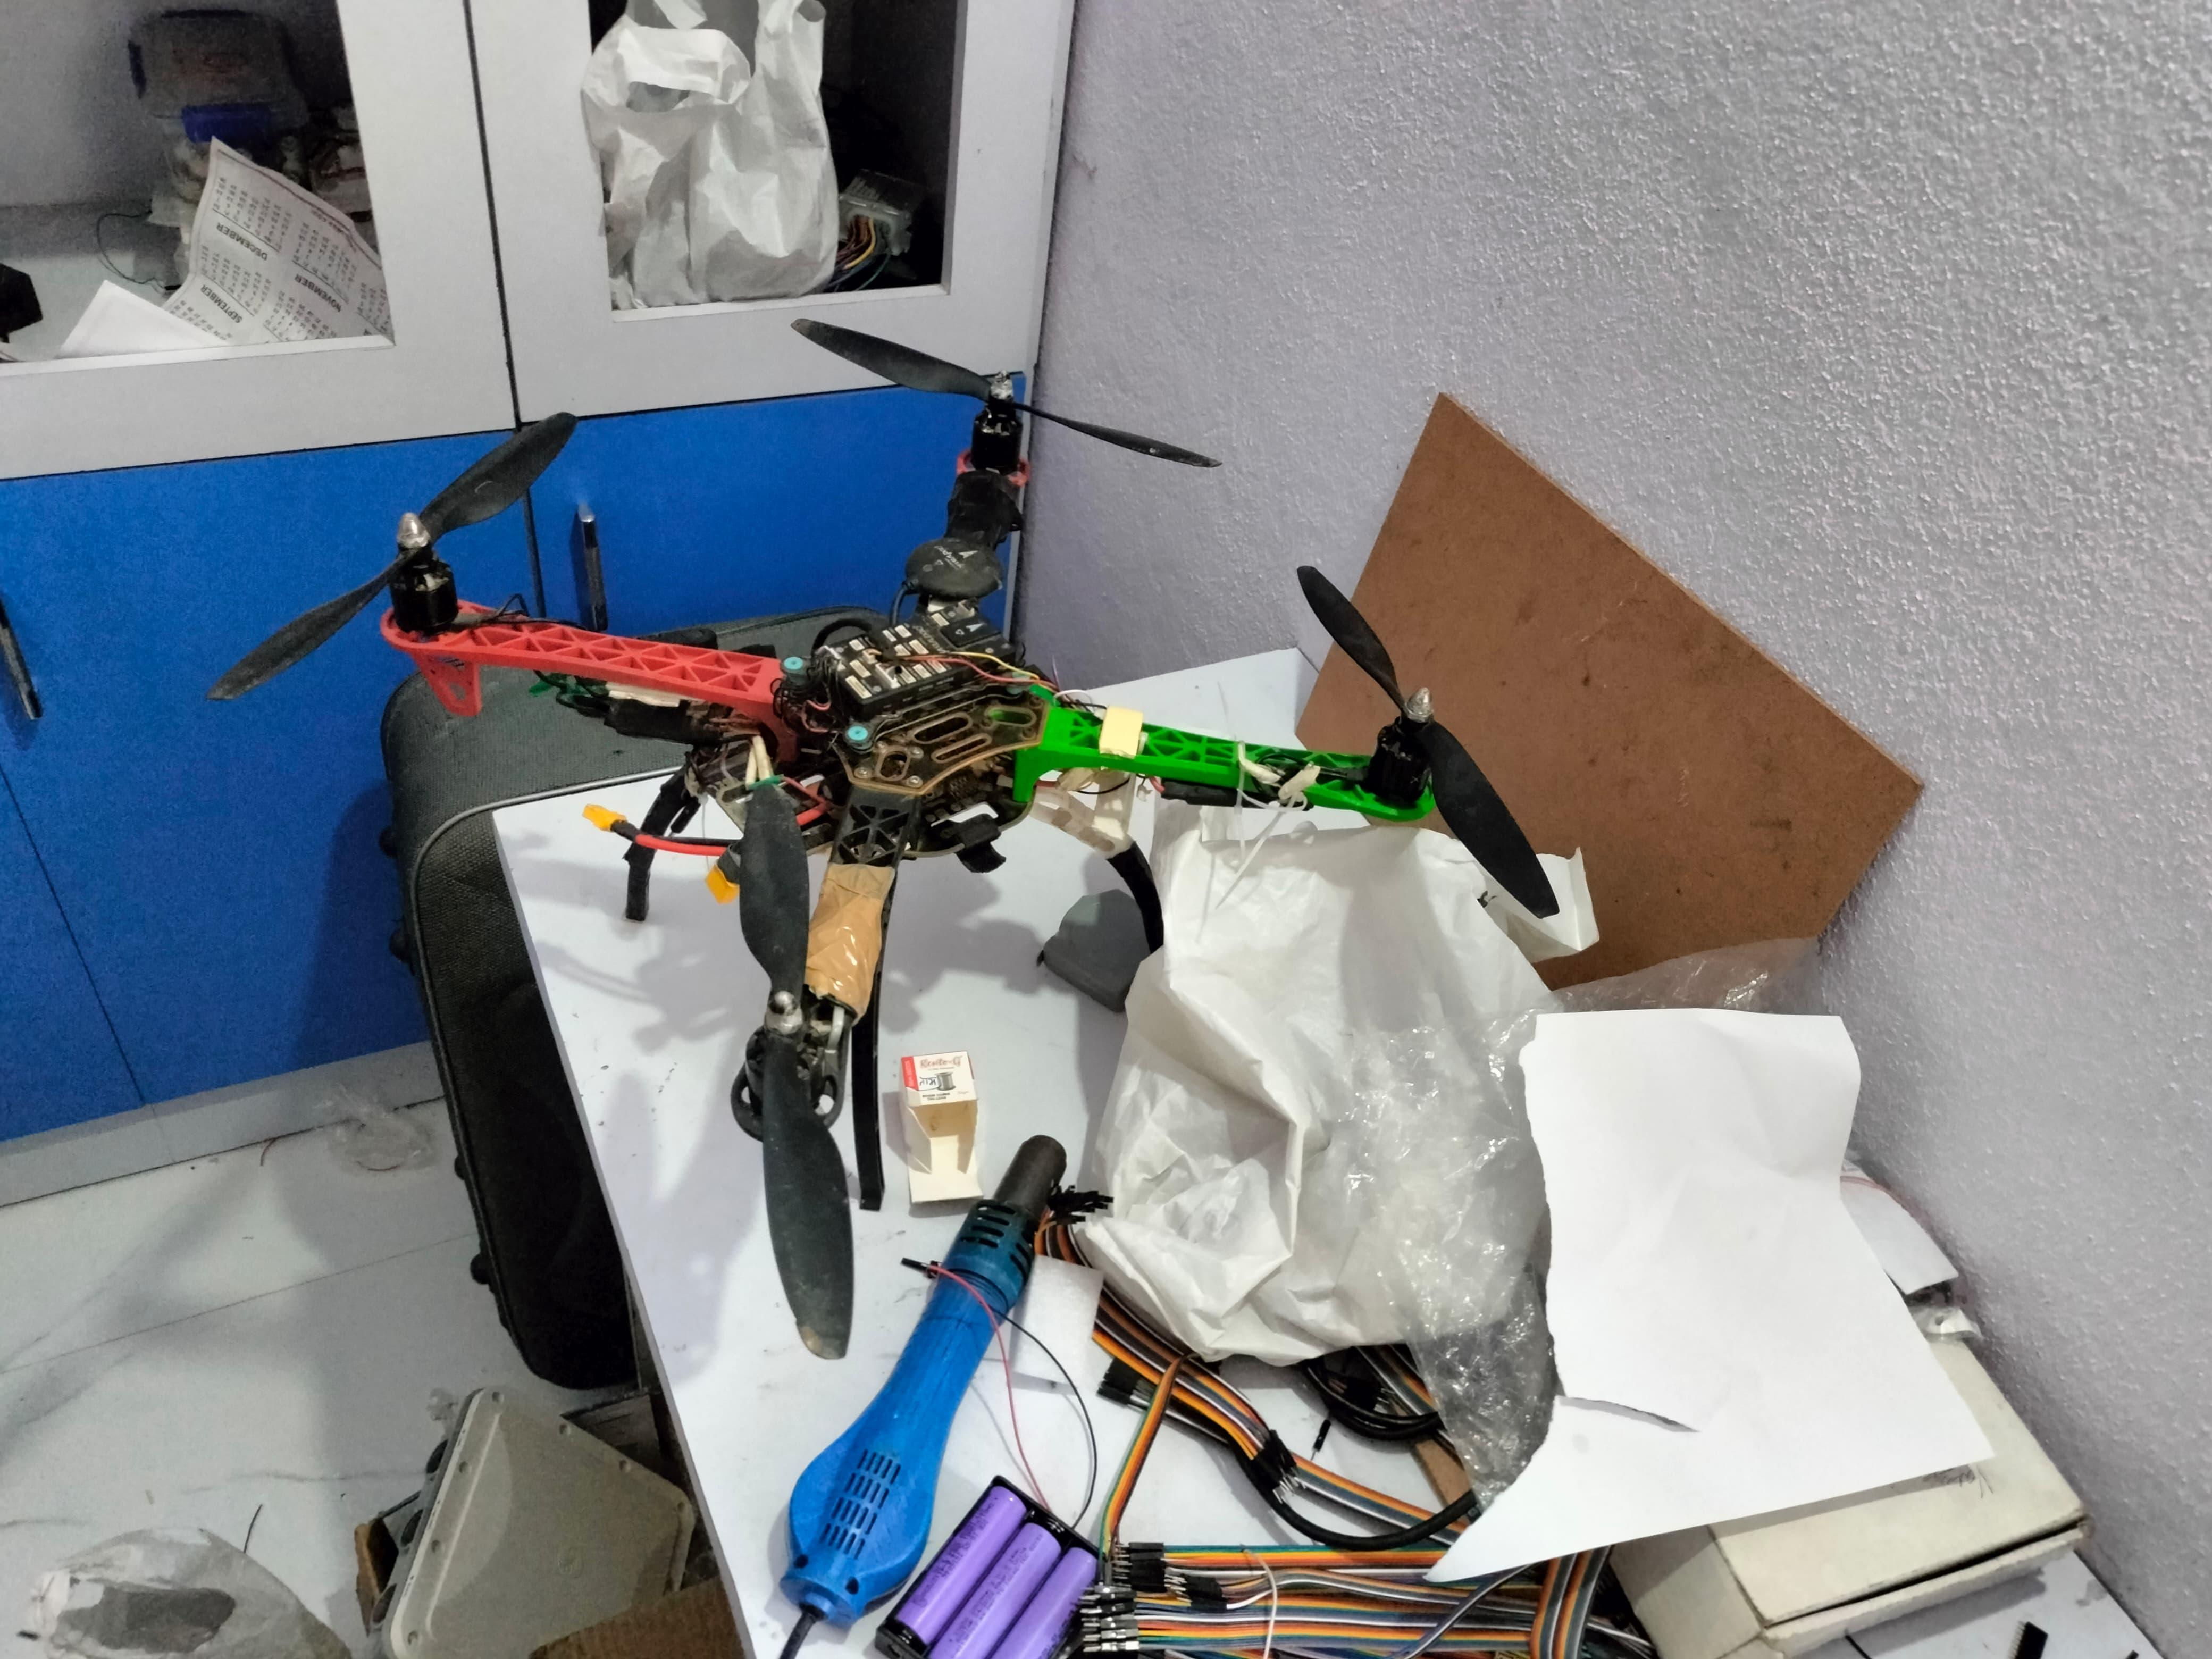drone: (209, 338, 1618, 1356)
